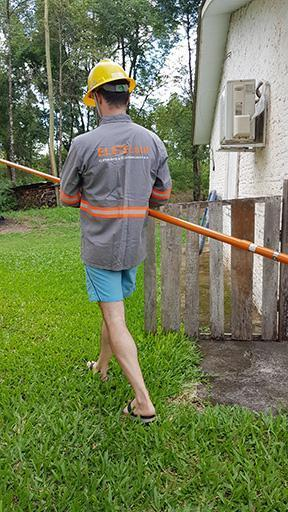helmet: (78, 57, 138, 116)
